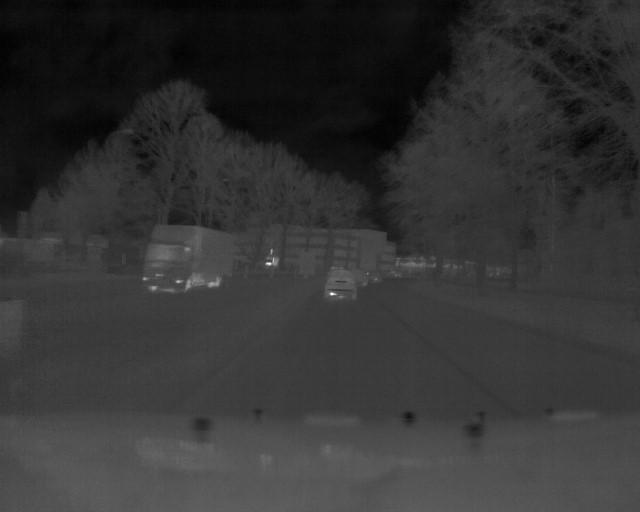car: (139, 218, 236, 295), (321, 268, 361, 301)
